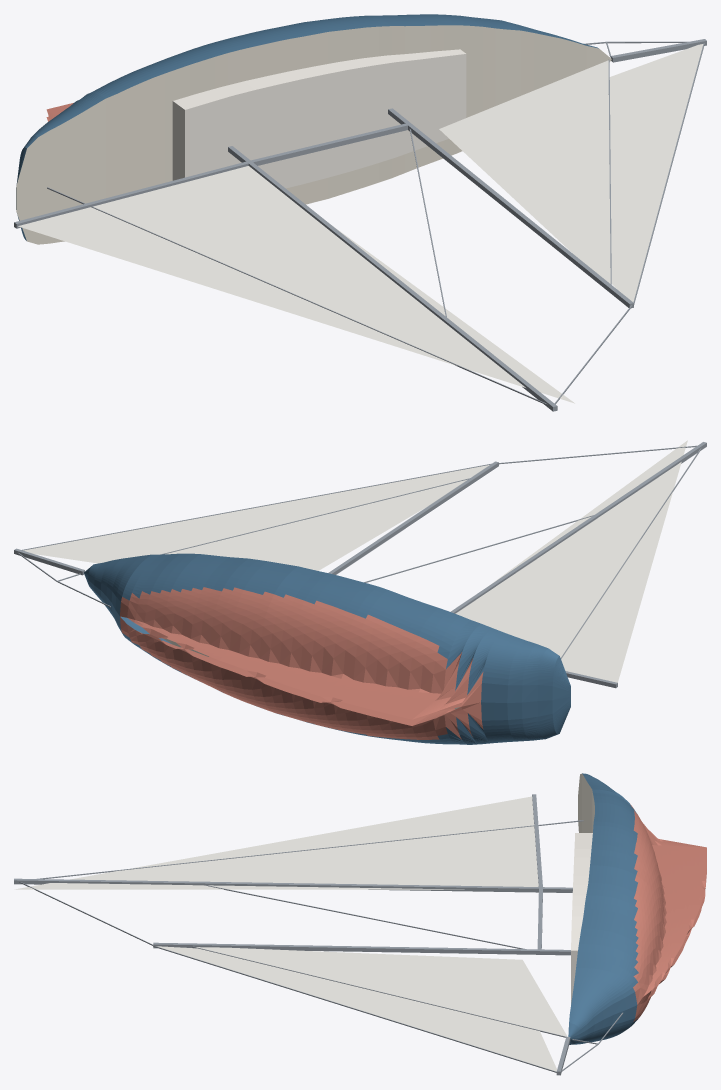
File: cheoy-lee-clipper-48-schooner.glb
3 views of the same model, one above another, from view 1: azimuth 30°, elevation 25°; view 2: azimuth 150°, elevation 25°; view 3: azimuth 270°, elevation 25° (orthographic). The views are drawn at different scales.
Parts seen in each view (by area): view 1: Cheoy Lee Clipper 48 Schooner; view 2: Cheoy Lee Clipper 48 Schooner; view 3: Cheoy Lee Clipper 48 Schooner.
Part boxes in pixels (x1,y1,x2,y2): Cheoy Lee Clipper 48 Schooner: (14, 14, 706, 411); Cheoy Lee Clipper 48 Schooner: (14, 440, 706, 744); Cheoy Lee Clipper 48 Schooner: (14, 773, 706, 1075).
Bounding box in the file's own units: 2.39 × 0.5522 × 2.53.
